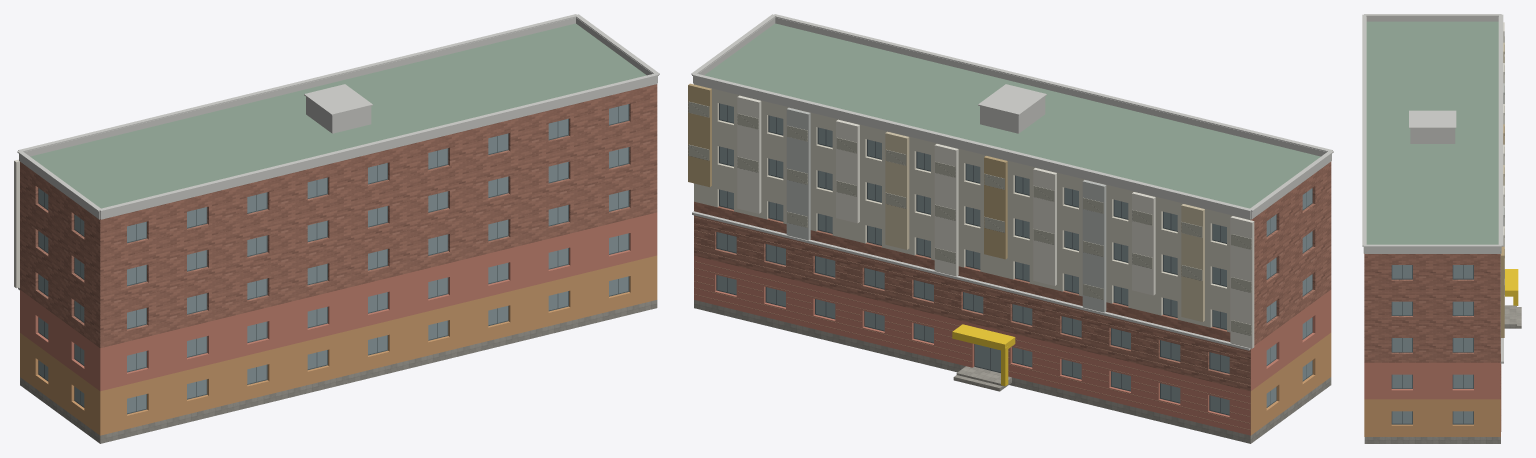
3 renders of one model, left to right at view 1: azimuth 30°, elevation 25°; view 2: azimuth 150°, elevation 25°; view 3: azimuth 270°, elevation 25°, orthographic. The views are drawn at different scales.
Parts seen in each view (by area): view 1: jeongsu__brick, jeongsu__roof, jeongsu__ochre, jeongsu__terracotta, jeongsu__cap, jeongsu__glass, jeongsu__stone, jeongsu__frame, jeongsu__panelivory; view 2: jeongsu__roof, jeongsu__brick, jeongsu__cream, jeongsu__terracotta, jeongsu__cap, jeongsu__glass, jeongsu__panelivory, jeongsu__perforated, jeongsu__seam, jeongsu__stone, jeongsu__panelgray, jeongsu__panelwarm (+4 smaller); view 3: jeongsu__roof, jeongsu__brick, jeongsu__cap, jeongsu__ochre, jeongsu__terracotta, jeongsu__glass, jeongsu__stone, jeongsu__frame, jeongsu__yellow, jeongsu__panelgold, jeongsu__perforated, jeongsu__panelivory (+2 smaller).
Boxes of the visible parts, box(x1,y1,x2,y2) form: jeongsu__brick: box(20, 84, 657, 347); jeongsu__roof: box(30, 23, 646, 208); jeongsu__ochre: box(20, 255, 657, 435); jeongsu__terracotta: box(20, 212, 657, 391); jeongsu__cap: box(17, 14, 659, 290); jeongsu__glass: box(39, 104, 628, 413); jeongsu__stone: box(20, 300, 657, 443); jeongsu__frame: box(38, 104, 629, 414); jeongsu__panelivory: box(14, 159, 19, 288); jeongsu__roof: box(704, 23, 1320, 218); jeongsu__brick: box(694, 161, 1331, 391); jeongsu__cream: box(694, 84, 1250, 332); jeongsu__terracotta: box(694, 255, 1331, 435); jeongsu__cap: box(691, 14, 1333, 350); jeongsu__glass: box(717, 103, 1312, 414); jeongsu__panelivory: box(737, 95, 1254, 348); jeongsu__perforated: box(688, 101, 1251, 336); jeongsu__seam: box(694, 217, 1250, 430); jeongsu__stone: box(694, 300, 1331, 443); jeongsu__panelgray: box(786, 107, 1106, 312); jeongsu__panelwarm: box(885, 131, 1204, 321); jeongsu__roof: box(1366, 21, 1500, 252); jeongsu__brick: box(1364, 253, 1500, 398); jeongsu__cap: box(1362, 14, 1503, 363); jeongsu__ochre: box(1364, 399, 1500, 436); jeongsu__terracotta: box(1364, 362, 1500, 436); jeongsu__glass: box(1392, 265, 1472, 423); jeongsu__stone: box(1364, 437, 1500, 443); jeongsu__frame: box(1391, 265, 1473, 424); jeongsu__yellow: box(1505, 269, 1518, 305); jeongsu__panelgold: box(1501, 124, 1504, 337); jeongsu__perforated: box(1504, 36, 1504, 314); jeongsu__panelivory: box(1503, 22, 1504, 246).
Bounding box in the file's own units: 46.6 × 19.52 × 13.45.
Materials: 17 (3 with a texture image).
